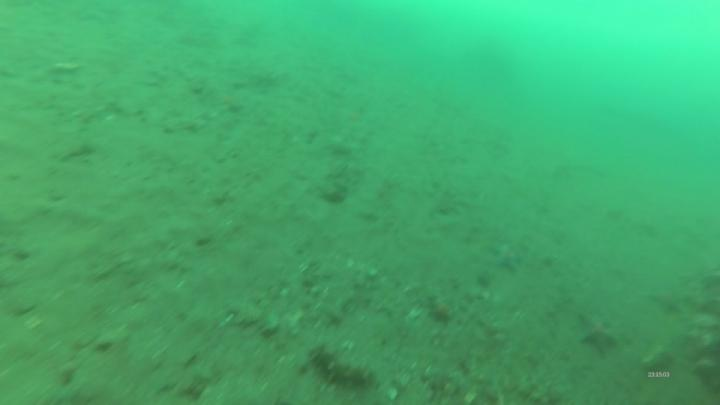holothurian: (304, 342, 375, 394)
starfish: (492, 239, 528, 275)
